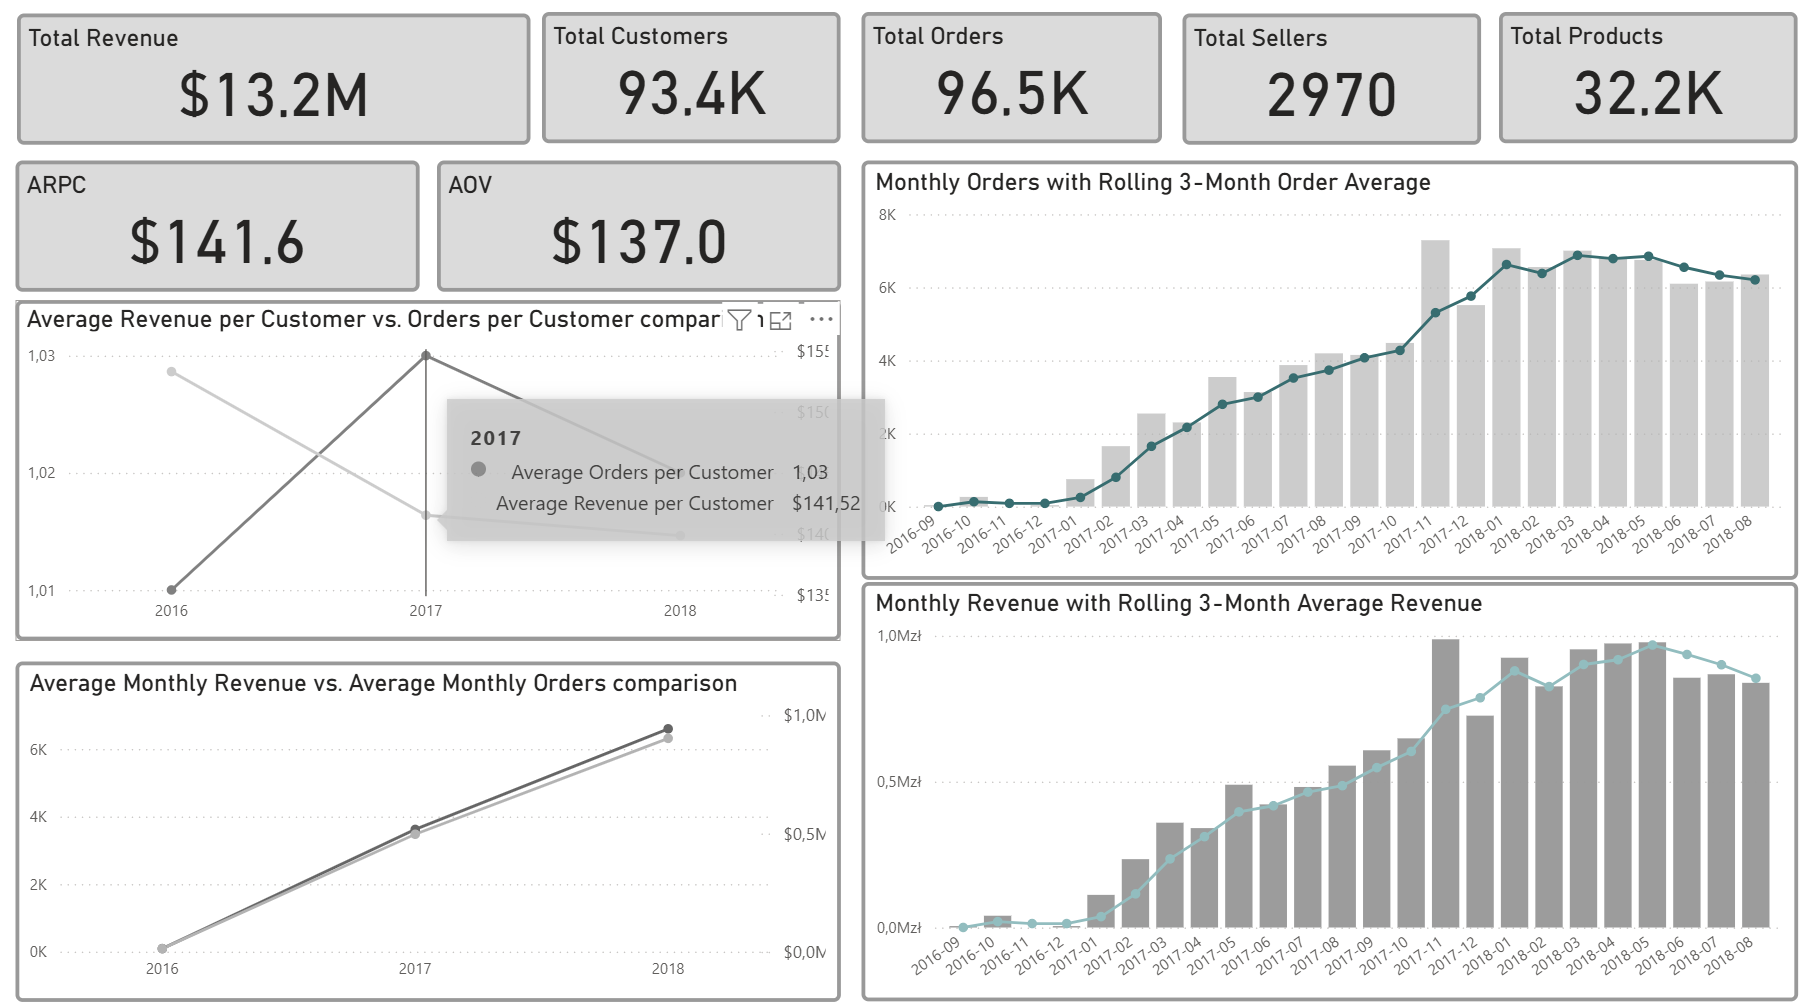

What the dashboard file says about the page in this screenshot:
{"tool":"powerbi","page":{"name":"Page 1","canvas":[1280,720],"ordinal":0},"visuals":[{"type":"card","title":"Total Revenue","fields":{"Values":["Sum(ecommerce vw_total_metrics.total_revenue)"]},"box":[14.4,19.7,360.3,91.7],"z":0},{"type":"card","title":"Total Orders","fields":{"Values":["Sum(ecommerce vw_total_metrics.total_orders)"]},"box":[606.6,19.3,210.7,91.9],"z":1000},{"type":"card","title":"Total Customers","fields":{"Values":["Sum(ecommerce vw_total_metrics.total_customers)"]},"box":[383.1,19.2,209.4,91.9],"z":2000},{"type":"card","title":"ARPC","fields":{"Values":["Sum(ecommerce vw_total_metrics.average_rev_per_customer)"]},"box":[14,122.6,283,91.9],"z":3000},{"type":"card","title":"AOV","fields":{"Values":["Sum(ecommerce vw_total_metrics.average_order_value)"]},"box":[309,122.6,283.5,91.9],"z":4000},{"type":"card","title":"Total Sellers","fields":{"Values":["Sum(ecommerce vw_total_metrics.total_sellers)"]},"box":[831.3,19.5,209.4,91.9],"z":5000},{"type":"card","title":"Total Products","fields":{"Values":["Sum(ecommerce vw_total_metrics.total_products)"]},"box":[1053.5,19.2,209.4,91.9],"z":6000},{"type":"lineStackedColumnComboChart","title":"Monthly Orders with Rolling 3-Month Order Average","fields":{"Category":["ecommerce vw_3m_metrics.calendar_month"],"Y":["Max(ecommerce vw_3m_metrics.monthly_orders)"],"Y2":["Max(ecommerce vw_3m_metrics.ravg_orders_3m)"]},"box":[606.6,122.6,656.4,293.7],"z":7000},{"type":"lineStackedColumnComboChart","title":"Monthly Revenue with Rolling 3-Month Average Revenue","fields":{"Category":["ecommerce vw_3m_metrics.calendar_month"],"Y2":["Max(ecommerce vw_3m_metrics.ravg_rev_3m)"],"Y":["Max(ecommerce vw_3m_metrics.monthly_rev)"]},"box":[606.6,418.9,656.4,293.7],"z":8000},{"type":"lineChart","title":"Average Revenue per Customer vs. Orders per Customer comparison","fields":{"Category":["ecommerce vw_annual_metrics.sales_year"],"Y":["Sum(ecommerce vw_annual_metrics.average_orders_per_customer)"],"Y2":["Sum(ecommerce vw_annual_metrics.annual_average_rev_per_customer)"]},"box":[14,220.9,578.5,238.8],"z":9000},{"type":"lineChart","title":"Average Monthly Revenue vs. Average Monthly Orders comparison","fields":{"Category":["ecommerce vw_annual_metrics.sales_year"],"Y":["Sum(ecommerce vw_annual_metrics.average_monthly_orders)"],"Y2":["Sum(ecommerce vw_annual_metrics.average_monthly_revenue)"]},"box":[14,473.8,578.5,238.8],"z":10000}]}

Visuals, with their boxes in screenshot pixels (x1, y1, x2, y2), scaled from the page's 1280x720 canvas onto the 1811x1006 screenshot:
"Total Revenue" card: region(20, 28, 530, 156)
"Total Orders" card: region(858, 27, 1156, 155)
"Total Customers" card: region(542, 27, 838, 155)
"ARPC" card: region(20, 171, 420, 300)
"AOV" card: region(437, 171, 838, 300)
"Total Sellers" card: region(1176, 27, 1472, 156)
"Total Products" card: region(1491, 27, 1787, 155)
"Monthly Orders with Rolling 3-Month Order Average" lineStackedColumnComboChart: region(858, 171, 1787, 582)
"Monthly Revenue with Rolling 3-Month Average Revenue" lineStackedColumnComboChart: region(858, 585, 1787, 996)
"Average Revenue per Customer vs. Orders per Customer comparison" lineChart: region(20, 309, 838, 642)
"Average Monthly Revenue vs. Average Monthly Orders comparison" lineChart: region(20, 662, 838, 996)
